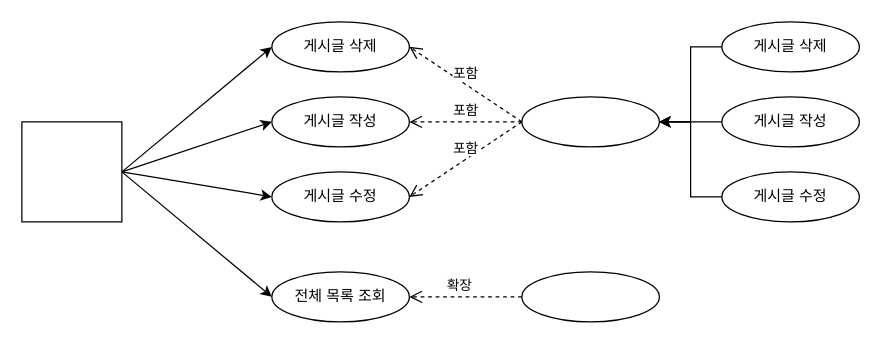
Some shapes in this 881 by 344 pixel diagram are drawn without their labels. The shapes that lost their labels are listed below. From the top down, each one's centre as x and y in pixels, then its label:
At pixel 590 121: "게시글 관리".
At pixel 71 171: "사용자".
At pixel 590 296: "게시물 상세".
